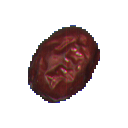gd: (11, 14, 128, 113)
